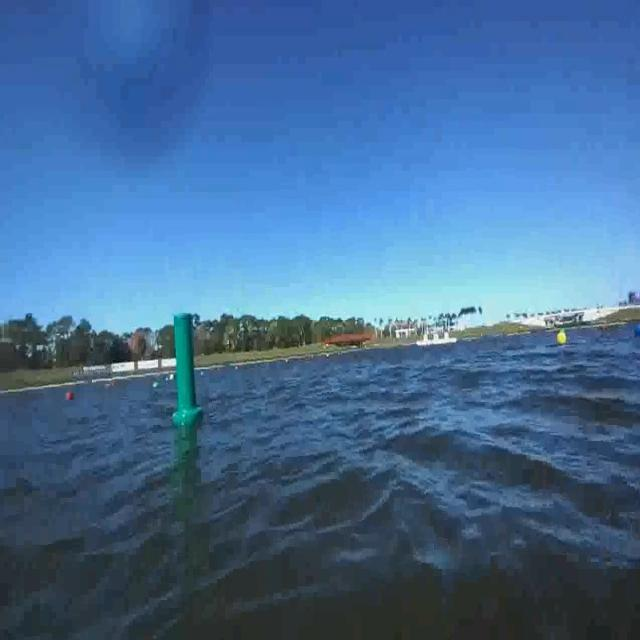green-column-buoy: (171, 311, 203, 427)
red-buoy: (67, 391, 74, 401)
yellow-buoy: (557, 329, 568, 348)
